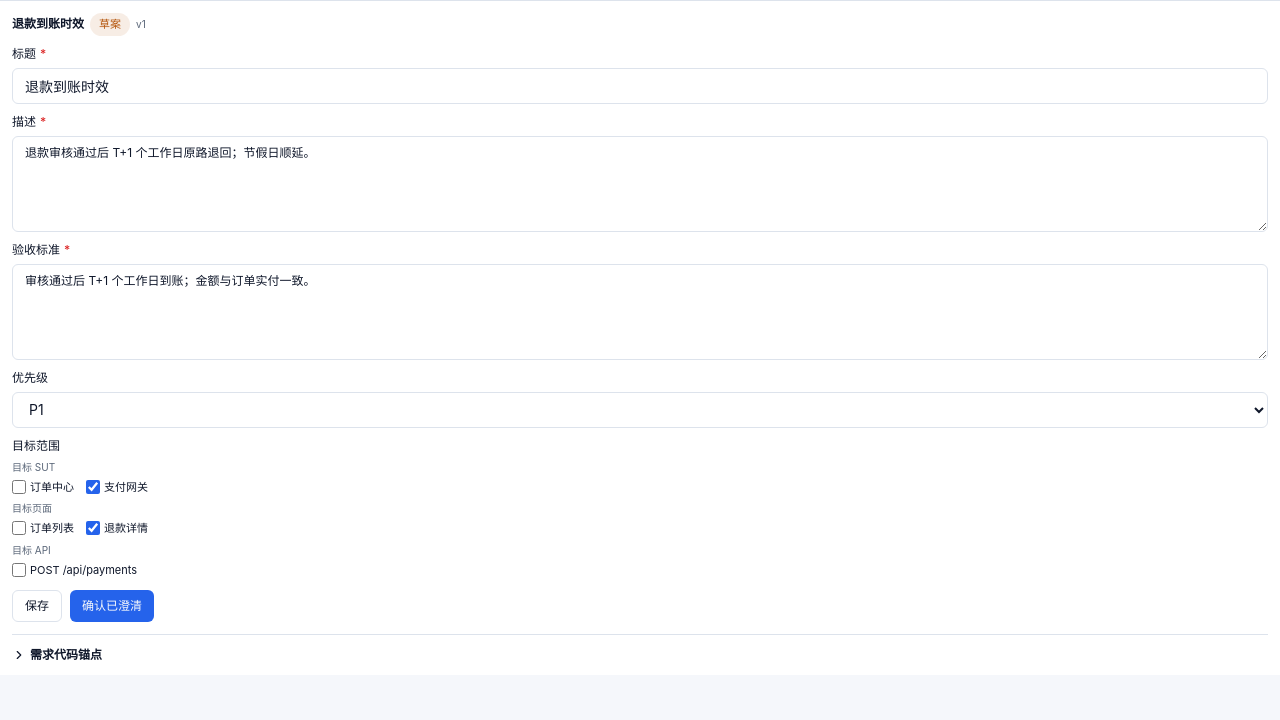
Test: RequirementEditor › shows API validation errors inline
Step 1. Click the button with test id "editor-save" → (37, 606), box x1=12 y1=590 x2=62 y2=622
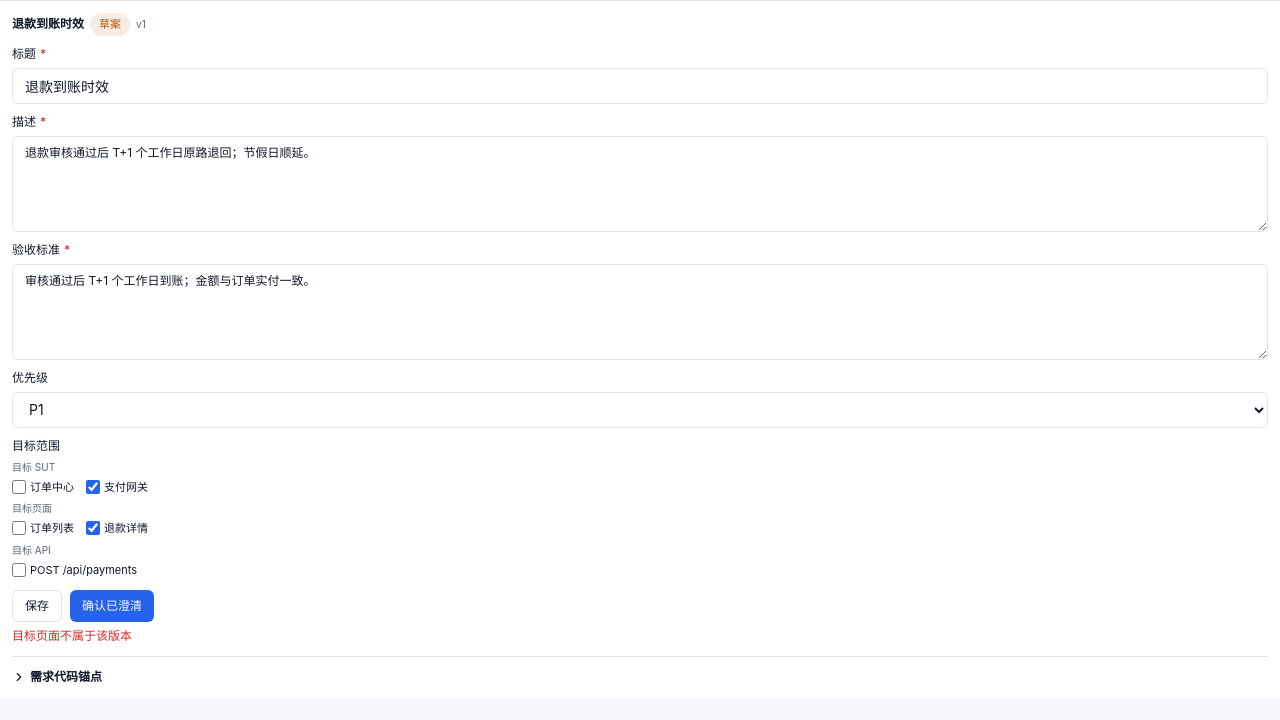
expect the text "目标页面不属于该版本" is shown: met, box x1=12 y1=628 x2=132 y2=643
